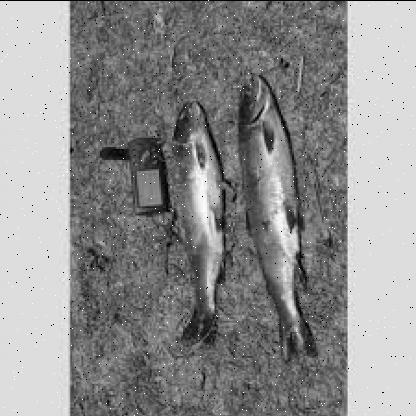fish: (234, 78, 314, 366), (166, 102, 228, 348)
